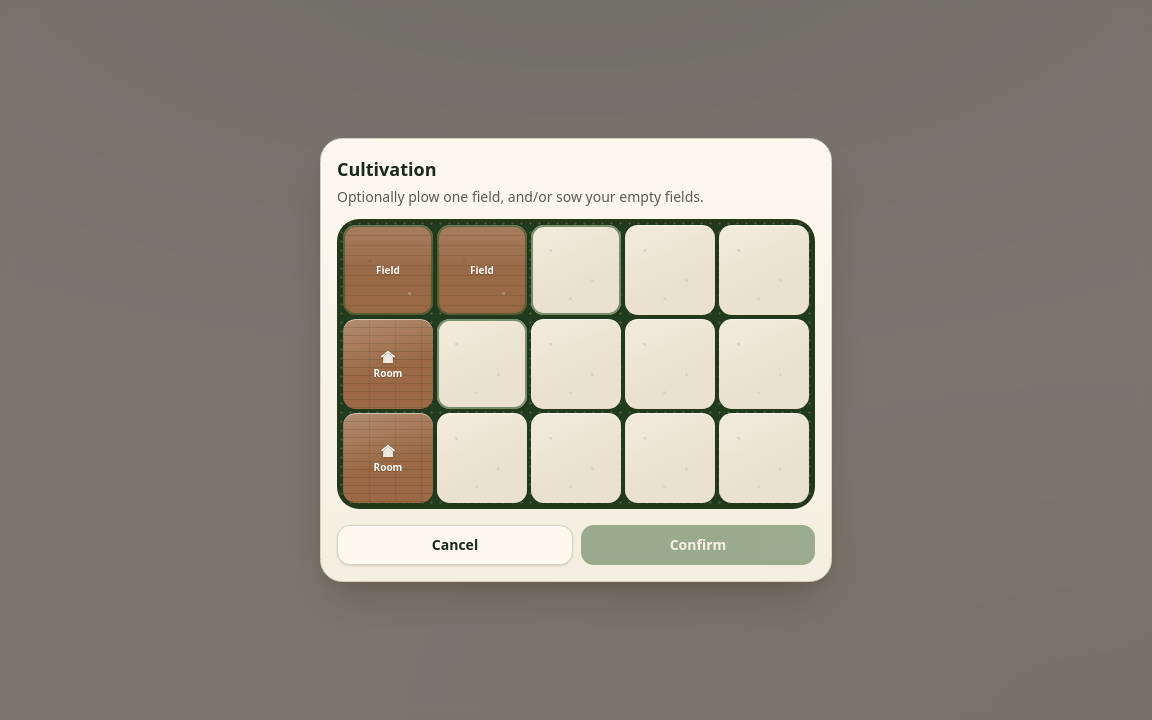
cultivation › cycles a field through grain, vegetables and back to nothing
The image size is (1152, 720).
Click the button with aria-label "Space 1:": (388, 270) x1=343 y1=225 x2=433 y2=315
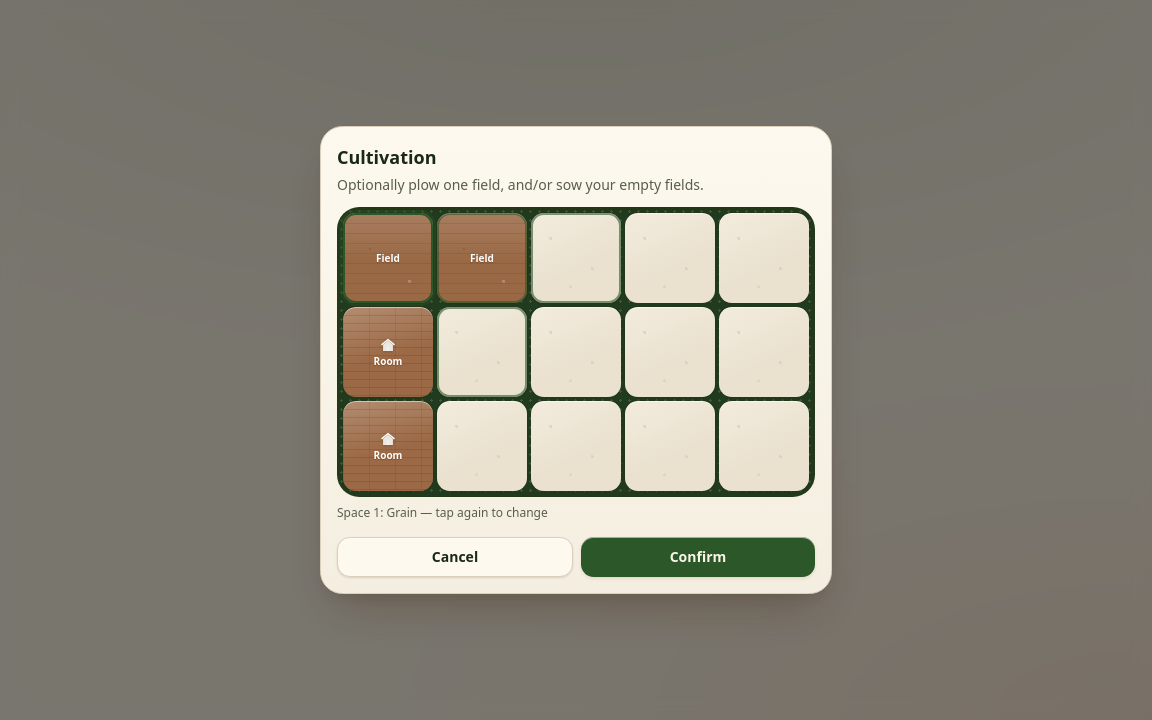
expect the list item "Space 1: Grain — tap again to change" is shown: met, box x1=337 y1=504 x2=548 y2=521
Click the button with aria-label "Space 1:": (388, 258) x1=343 y1=213 x2=433 y2=303
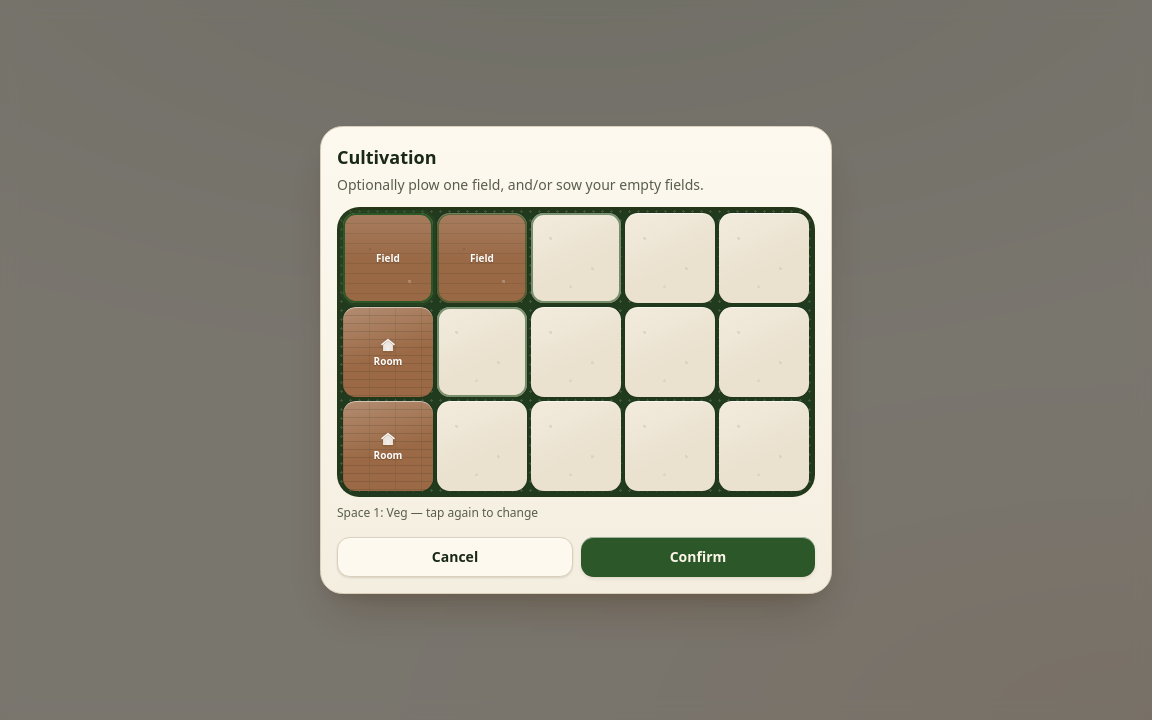
expect the list item "Space 1: Veg — tap again to change" is shown: met, box x1=337 y1=504 x2=538 y2=521
Click the button with aria-label "Space 1:": (388, 258) x1=343 y1=213 x2=433 y2=303
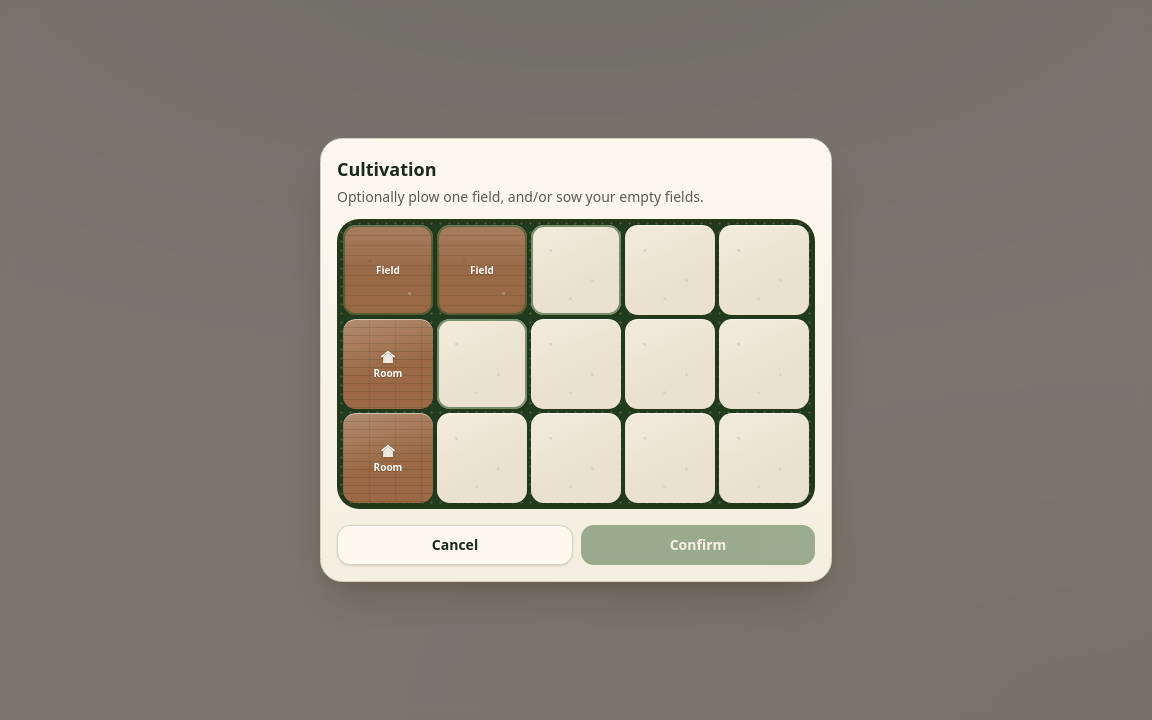
expect the list item "Space 1:" is gone: met
